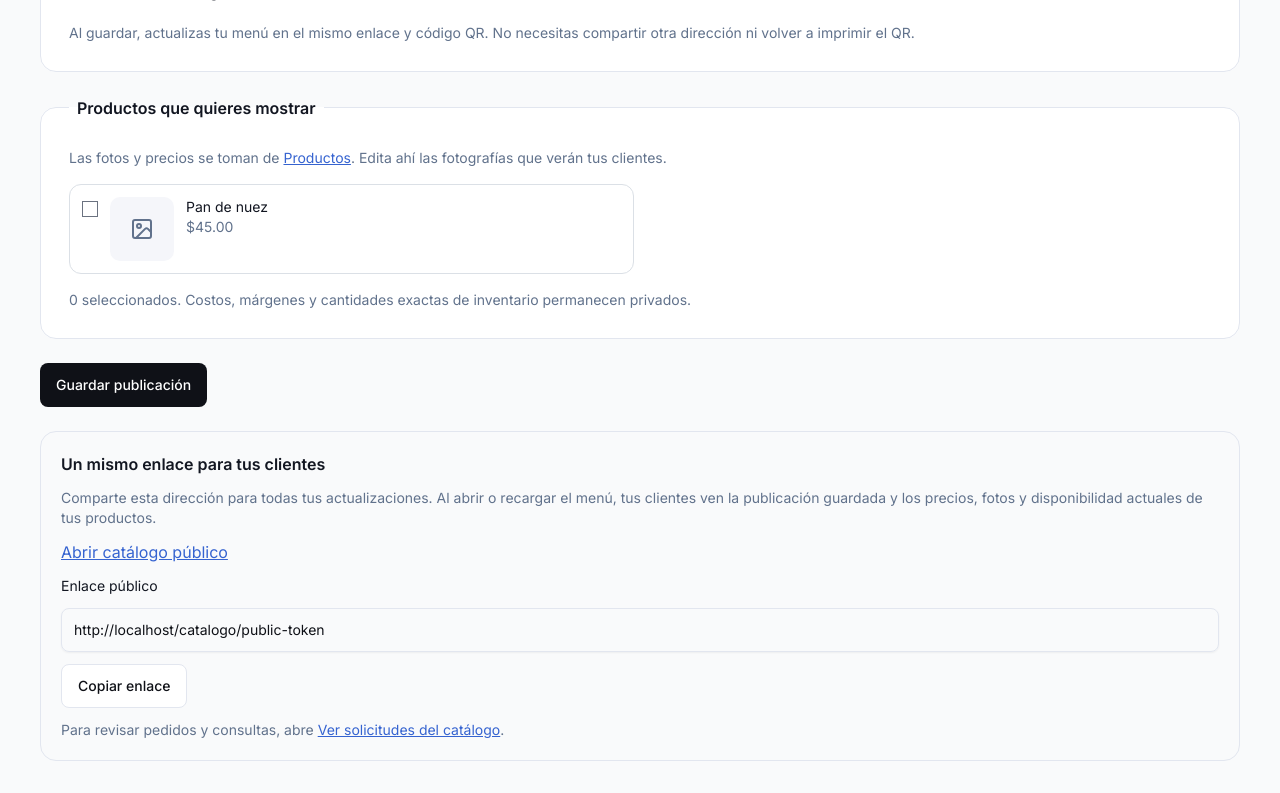
it: copies the public link with accessible confirmation and links to the existing request inbox
(page scrolled)
Click the button "Copiar enlace" at (124, 686), box [61,664,187,708]
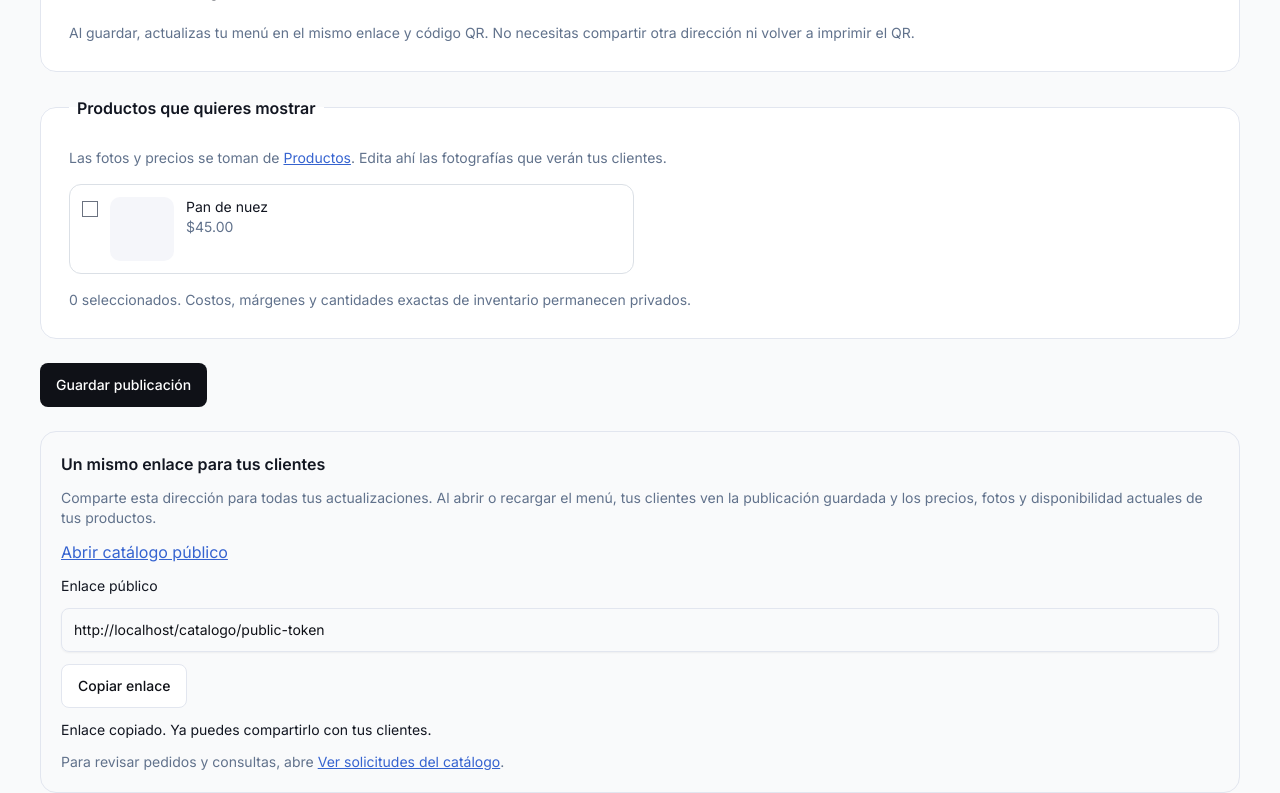
Expected: the text "Enlace copiado. Ya puedes compartirlo con tus clientes." is shown, [61,721,432,738]
